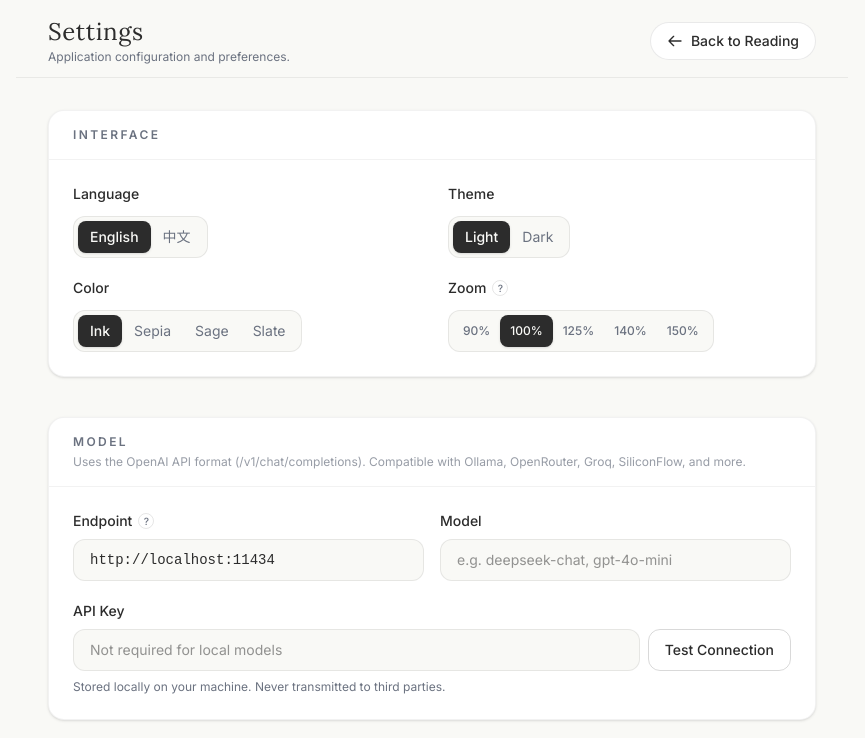
Test: HomeView.vue › switches UI language to Chinese and persists locale
Click the button "中文". click: [177, 237]
box: [151, 221, 203, 253]
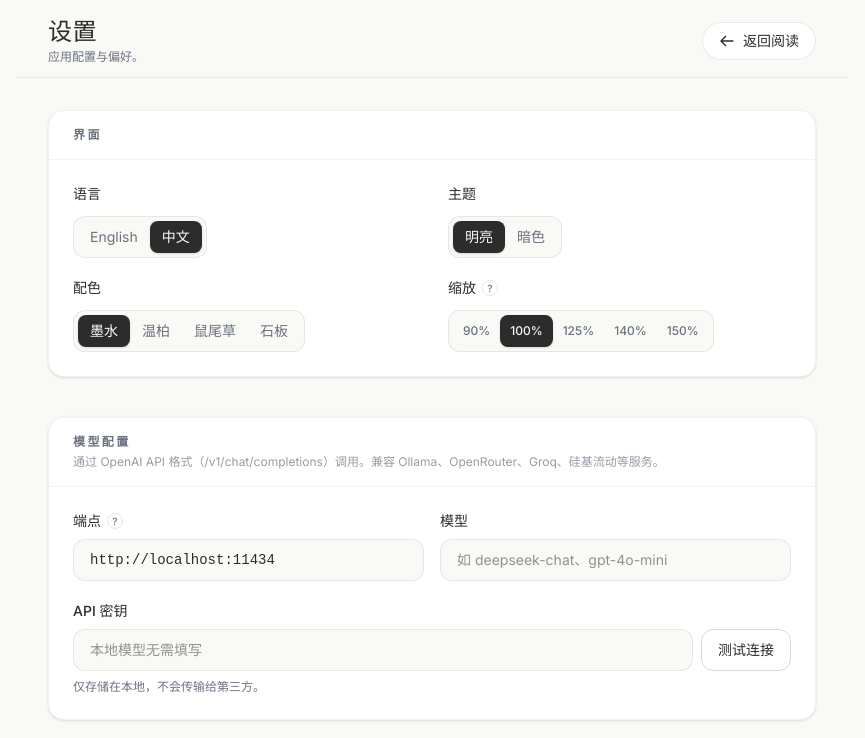
Now the text "设置" is shown, box [48, 16, 97, 47]
Now the text "界面" is shown, box [73, 127, 102, 142]
